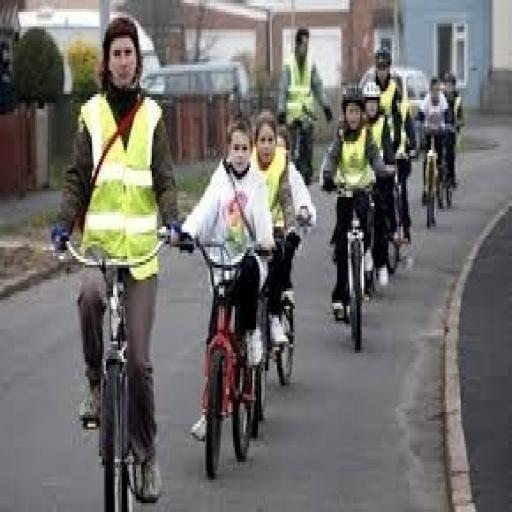cycling: (50, 12, 184, 506), (169, 112, 279, 447), (320, 80, 399, 324)
